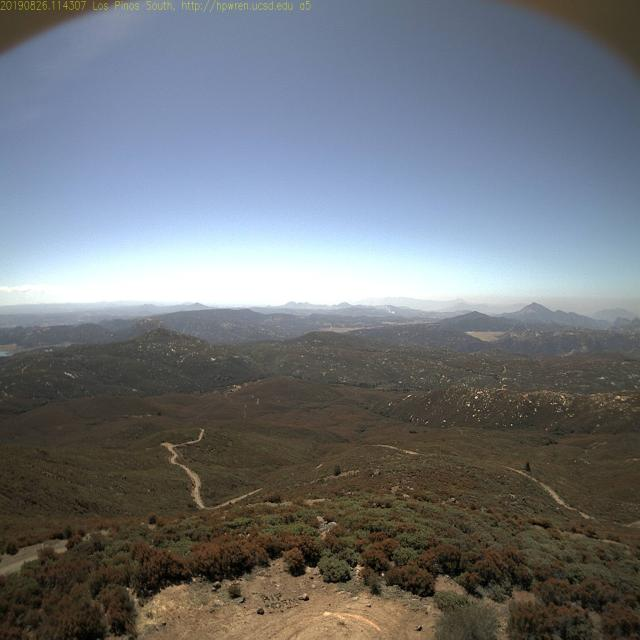smoke: (378, 304, 397, 318)
